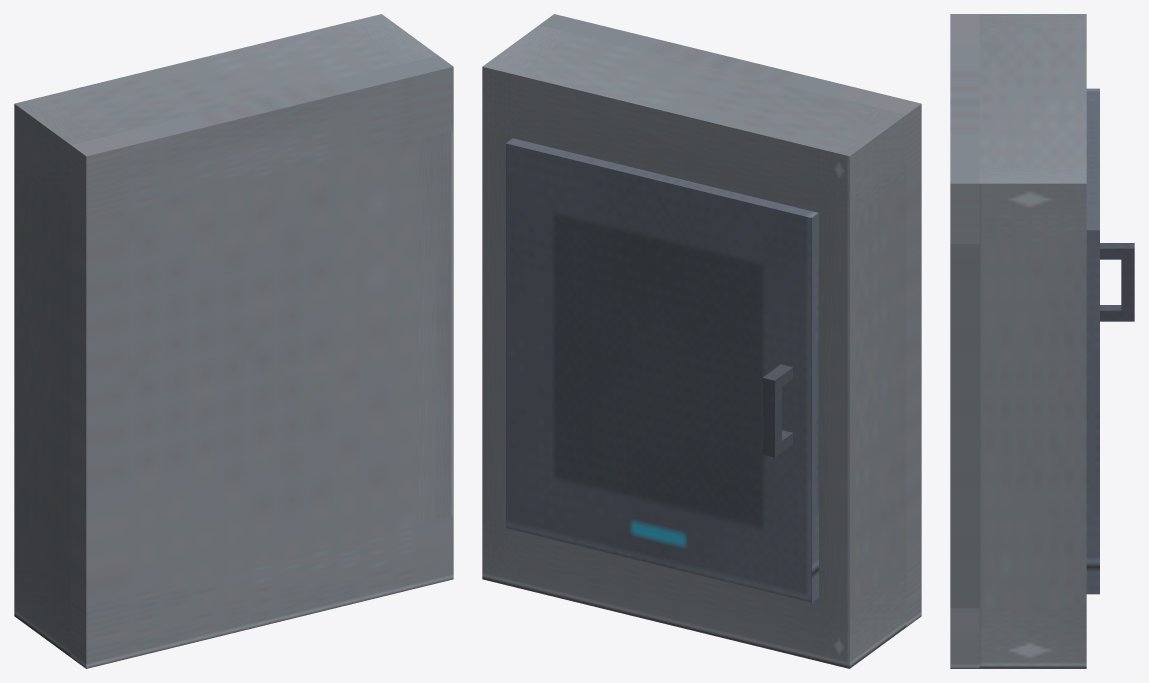
File: Breaker.fbx
The picture shows the model from 3 angles, left to right: view 1: azimuth 30°, elevation 25°; view 2: azimuth 150°, elevation 25°; view 3: azimuth 270°, elevation 25°; orthographic projection. The views are drawn at different scales.
Visible parts, largest first — view 1: Breaker; view 2: Breaker, Panel_Door; view 3: Breaker, Panel_Door.
Part boxes in pixels (box(x1,y1,x2,y2)): Breaker: box(14, 14, 453, 668); Breaker: box(482, 14, 921, 668); Panel_Door: box(506, 138, 818, 602); Breaker: box(950, 14, 1086, 668); Panel_Door: box(1086, 88, 1134, 594).
Bounding box in the file's own units: 30 × 40 × 13.77.
3 materials, 2 textured.
